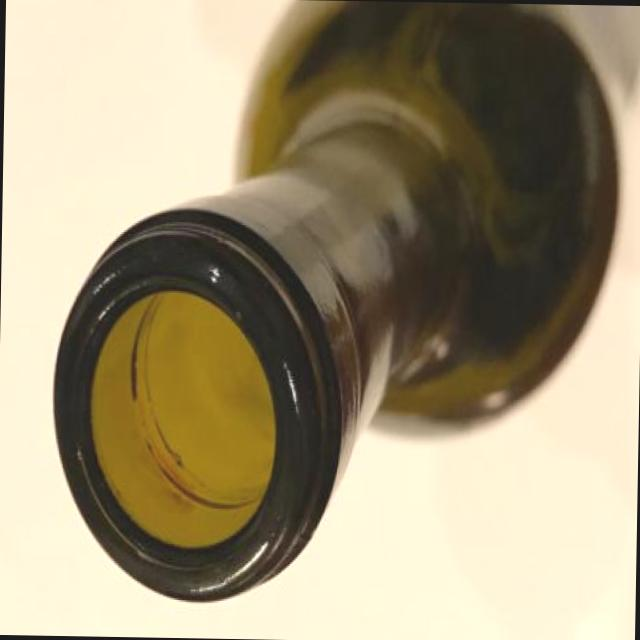chai_thuy_tinh: (55, 1, 619, 600)
